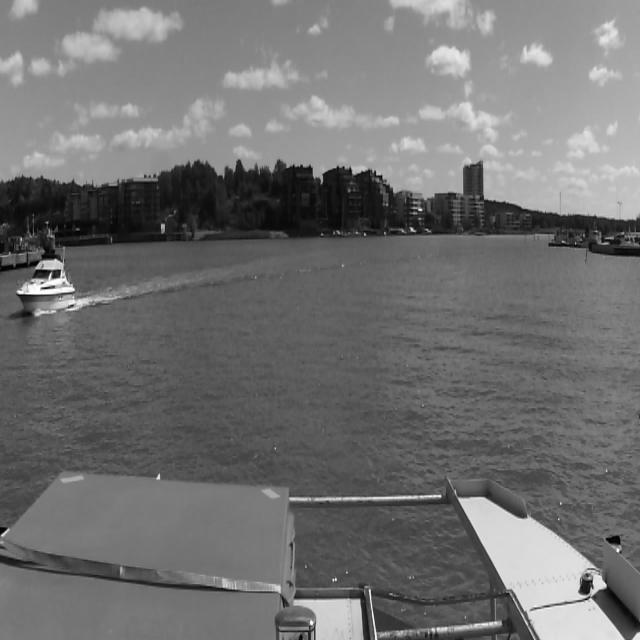ship: (16, 253, 76, 314)
